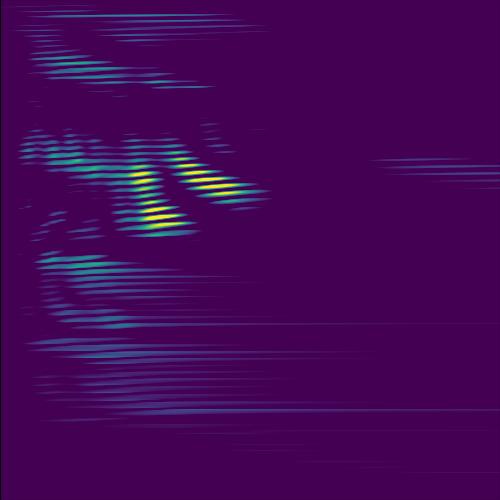semblance: (116, 160, 193, 238)
